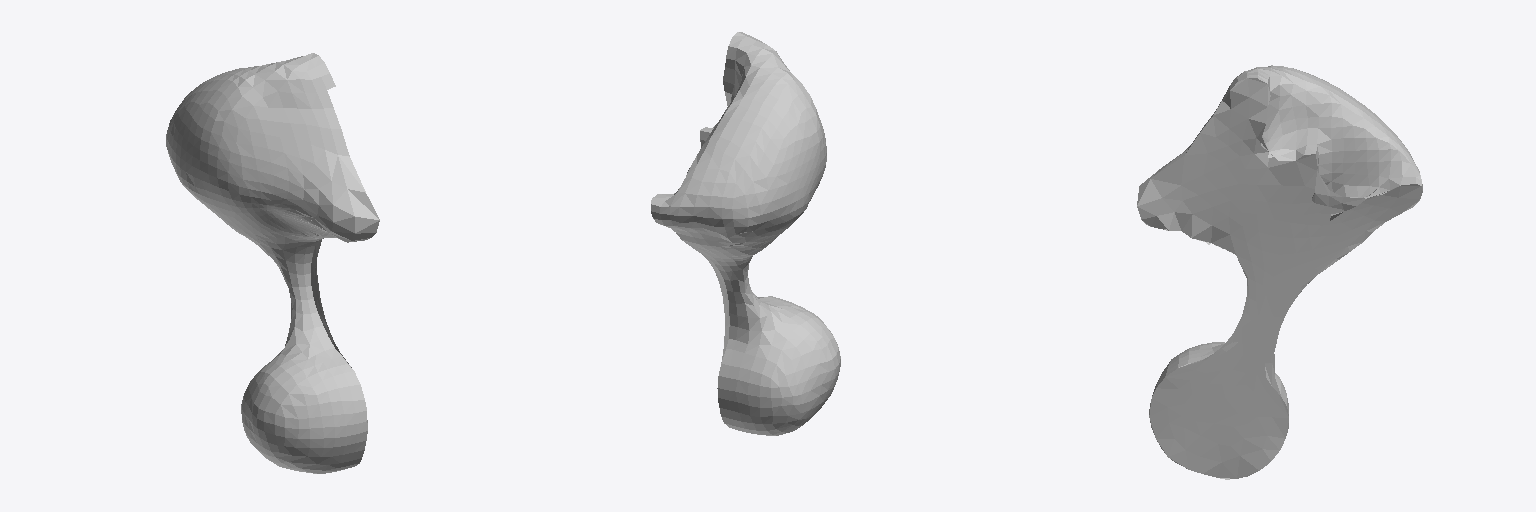
The model's file is Hypothalamus_and_pituitary1.obj.
3 views of the same model, side by side, from view 1: azimuth 30°, elevation 25°; view 2: azimuth 150°, elevation 25°; view 3: azimuth 270°, elevation 25° (orthographic).
Visible parts, largest first — view 1: obj0; view 2: obj0; view 3: obj0.
Part boxes in pixels (x1,y1,x2,y2): obj0: (166, 53, 379, 473); obj0: (651, 32, 840, 435); obj0: (1137, 65, 1422, 479).
Size of the model in its own units: 4.08 by 13.98 by 9.03.